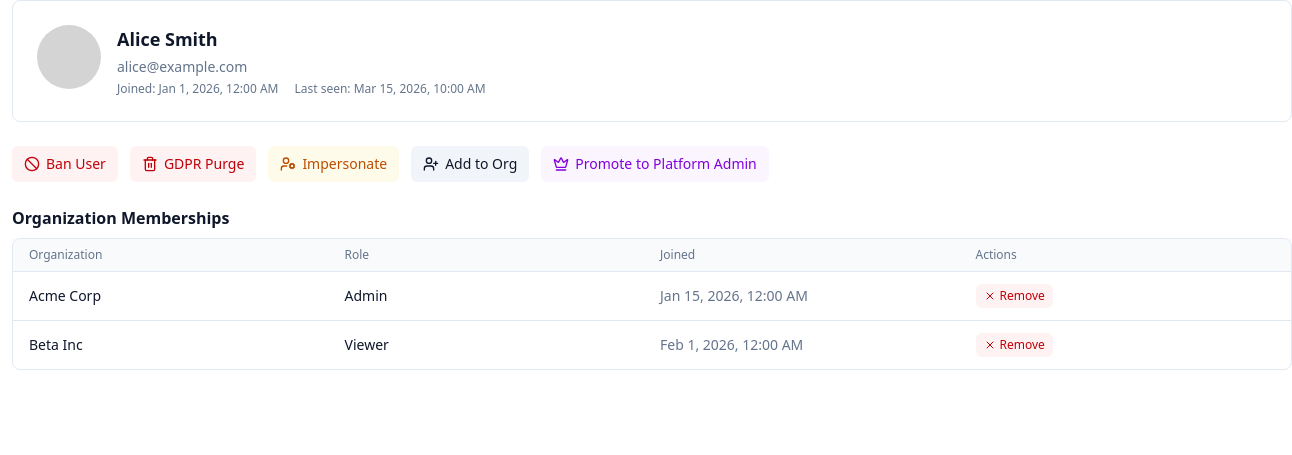
Test case: UserDetail › shows error message when impersonate fails
Click the button with test id "impersonate-btn": (334, 164) [268,146,399,182]
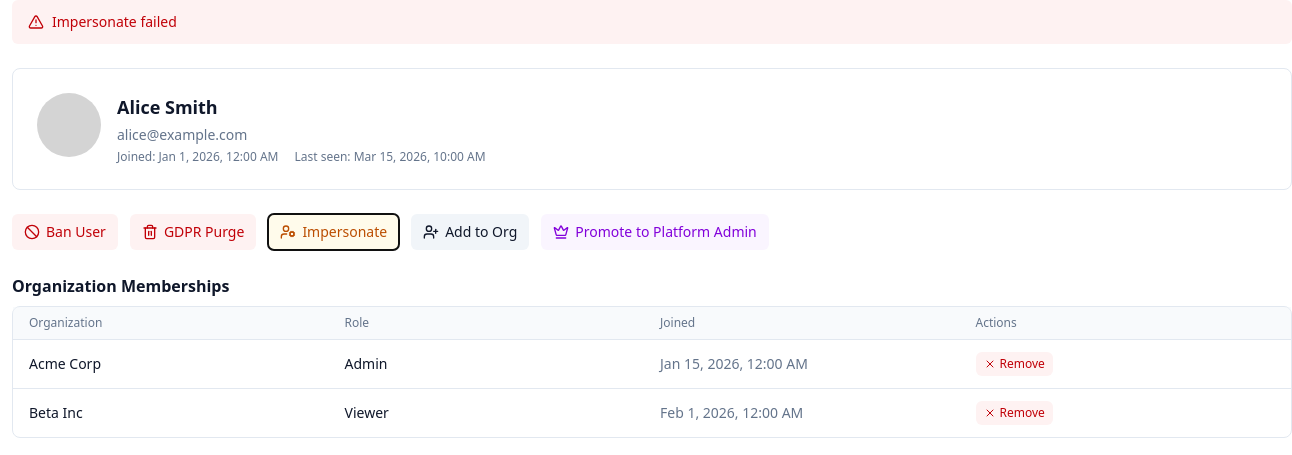
Expected: the element with test id "action-error" is shown, [12,0,1291,44]
